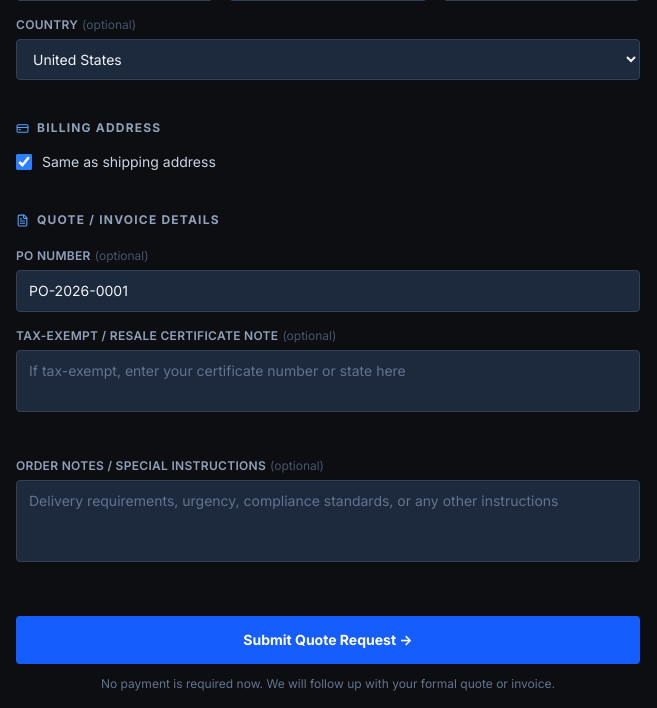
CheckoutGuest › shows customer-safe async quote submit errors and re-enables the submit button
(page scrolled)
Click the button "Submit Quote Request ->". click: click(328, 640)
box: top-left (16, 616), bottom-right (640, 664)
(page scrolled)
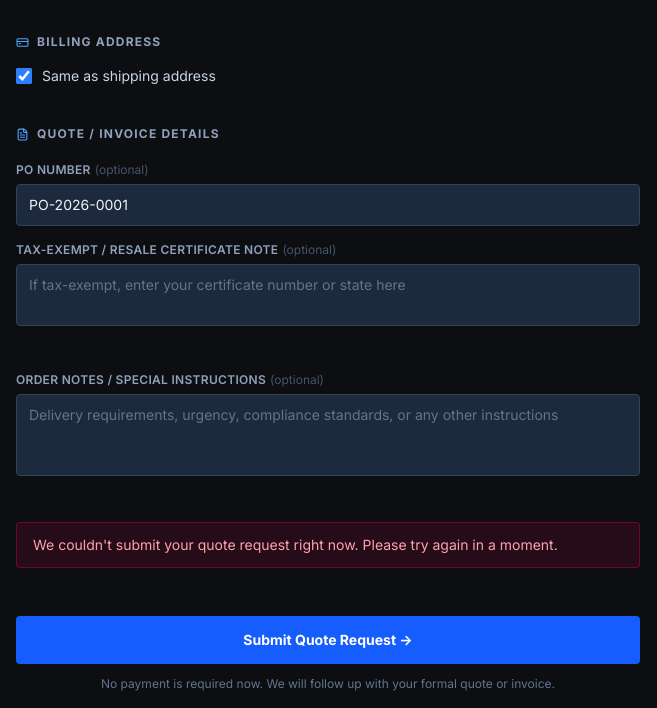
Expected: the text "We couldn't submit your quote request right now. Please try again in a moment." is shown, top-left (16, 522), bottom-right (640, 568)
